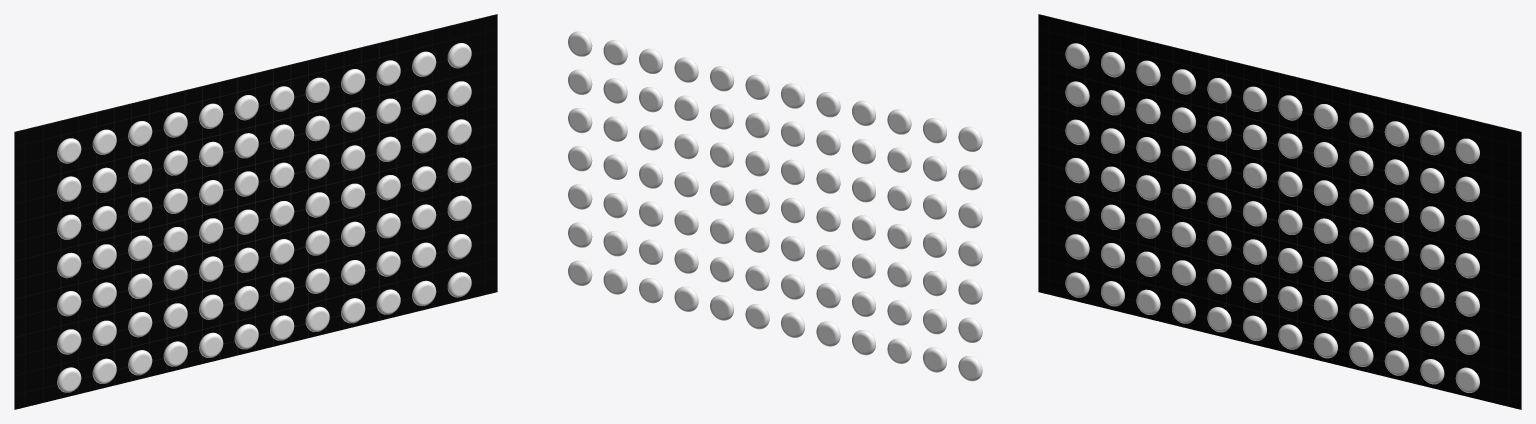
The model's file is header_follow_cursor.gltf.
3 views of the same model, side by side, from view 1: azimuth 30°, elevation 25°; view 2: azimuth 150°, elevation 25°; view 3: azimuth 330°, elevation 25° (orthographic).
Visible parts, largest first — view 1: Rectangle, Ellipse (×84); view 2: Ellipse (×84); view 3: Rectangle, Ellipse (×84).
Part boxes in pixels (<box>): Rectangle: <box>14,14,497,409</box>; Ellipse (×84): <box>57,43,471,392</box>; Ellipse (×84): <box>568,31,982,381</box>; Rectangle: <box>1038,14,1521,409</box>; Ellipse (×84): <box>1065,43,1479,392</box>.
Bounding box in the file's own units: 20 × 11 × 0.7095.
85 materials, 1 textured.
